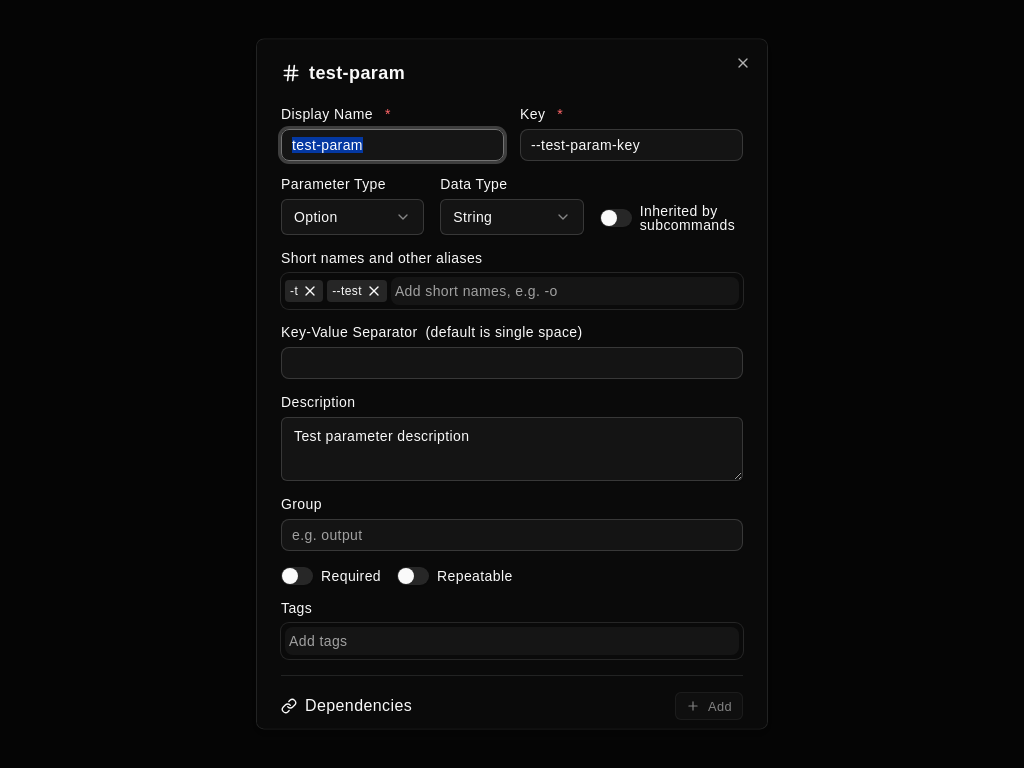
ParameterDetailsDialog - State Management & Dialog Actions › enables save button when changes are made but keeps store unchanged until saved
This screenshot has width=1024, height=768.
Replace the text in the field showing "test-param" with "updated-param" at [392, 145], box left=281, top=129, right=504, bottom=161
(page scrolled)
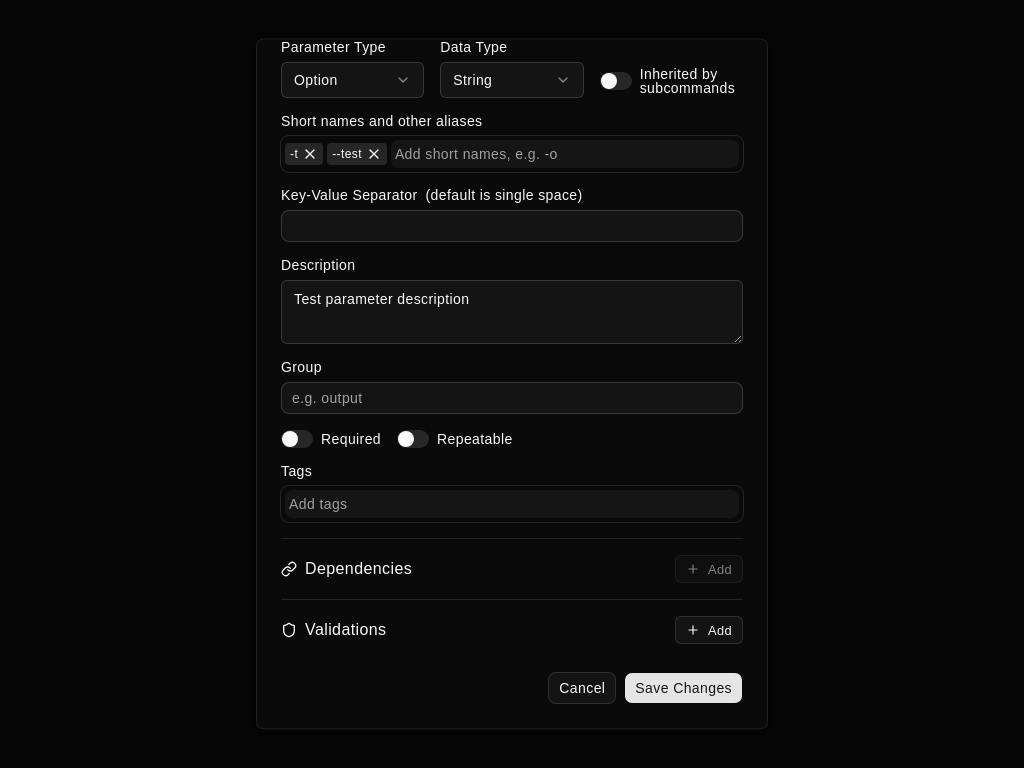
Check: the button "Save Changes" is enabled, box left=624, top=673, right=743, bottom=705
